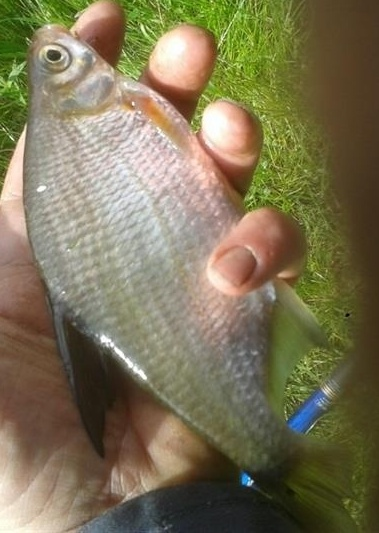Scardinius erythrophthalmus: (20, 20, 359, 533)
